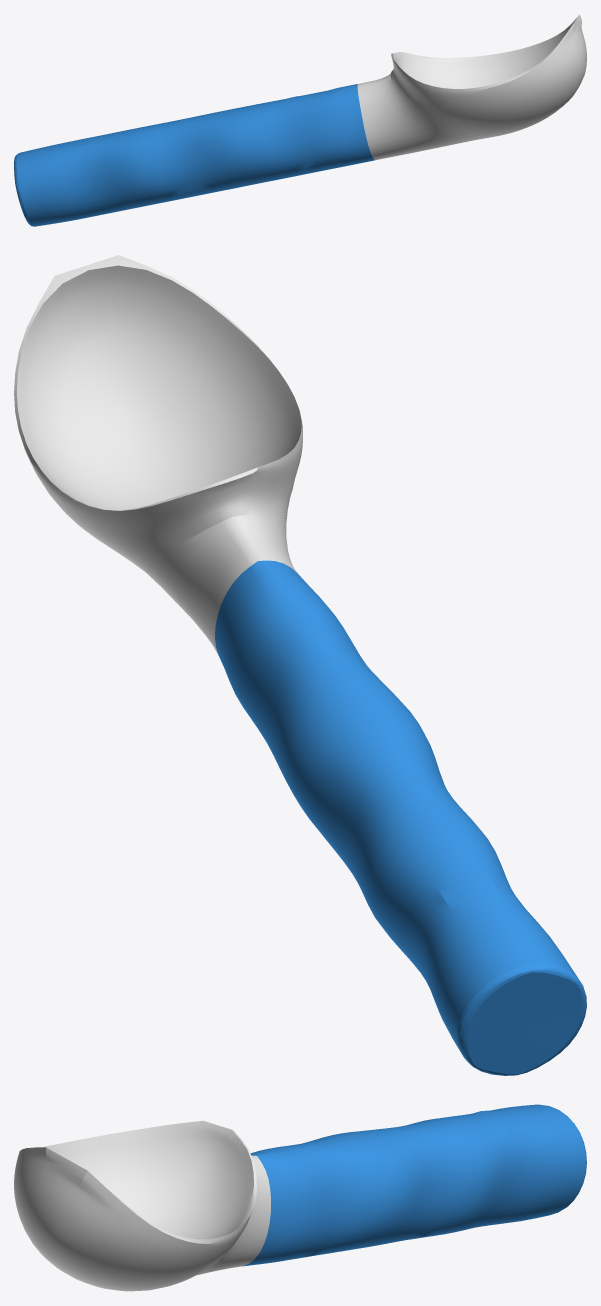
File: Scoop_Idle_Position_02.fbx
The picture shows the model from 3 angles, top to bottom: view 1: azimuth 30°, elevation 25°; view 2: azimuth 150°, elevation 25°; view 3: azimuth 270°, elevation 25°; orthographic projection. The views are drawn at different scales.
Parts seen in each view (by area): view 1: scoop; view 2: scoop; view 3: scoop.
Boxes of the visible parts, x1,y1,x2,y2 form: scoop: [14, 14, 586, 226]; scoop: [14, 255, 586, 1075]; scoop: [14, 1104, 586, 1291].
Size of the model in its own units: 121 by 61.69 by 94.38.
